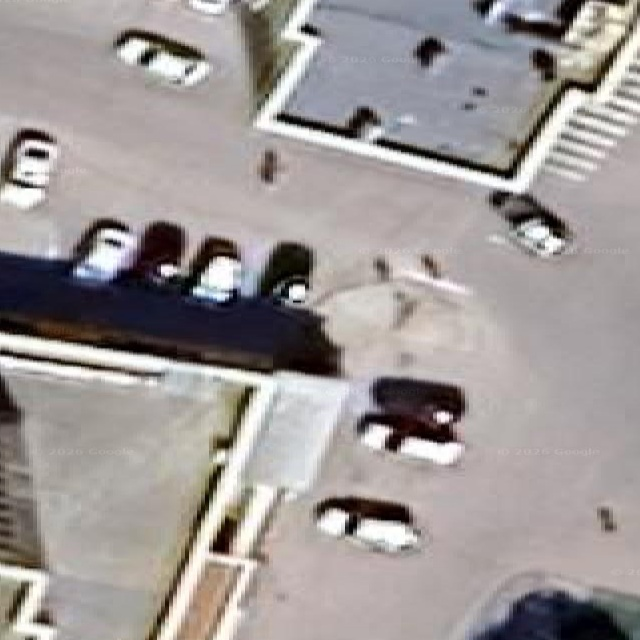car: (470, 587, 631, 639), (72, 220, 184, 283), (313, 496, 420, 552), (356, 412, 463, 464), (492, 193, 572, 256), (115, 30, 208, 84), (372, 376, 464, 426), (0, 131, 55, 207), (372, 252, 468, 295), (119, 221, 184, 283), (72, 220, 136, 281), (183, 236, 240, 303), (258, 241, 312, 303), (497, 0, 564, 39), (9, 135, 56, 186), (511, 213, 566, 256), (384, 252, 440, 279), (347, 107, 382, 140), (187, 0, 268, 13), (413, 35, 444, 68), (273, 276, 307, 303), (259, 148, 279, 183), (417, 253, 440, 279), (187, 0, 228, 13), (243, 0, 268, 12), (500, 603, 503, 607)
